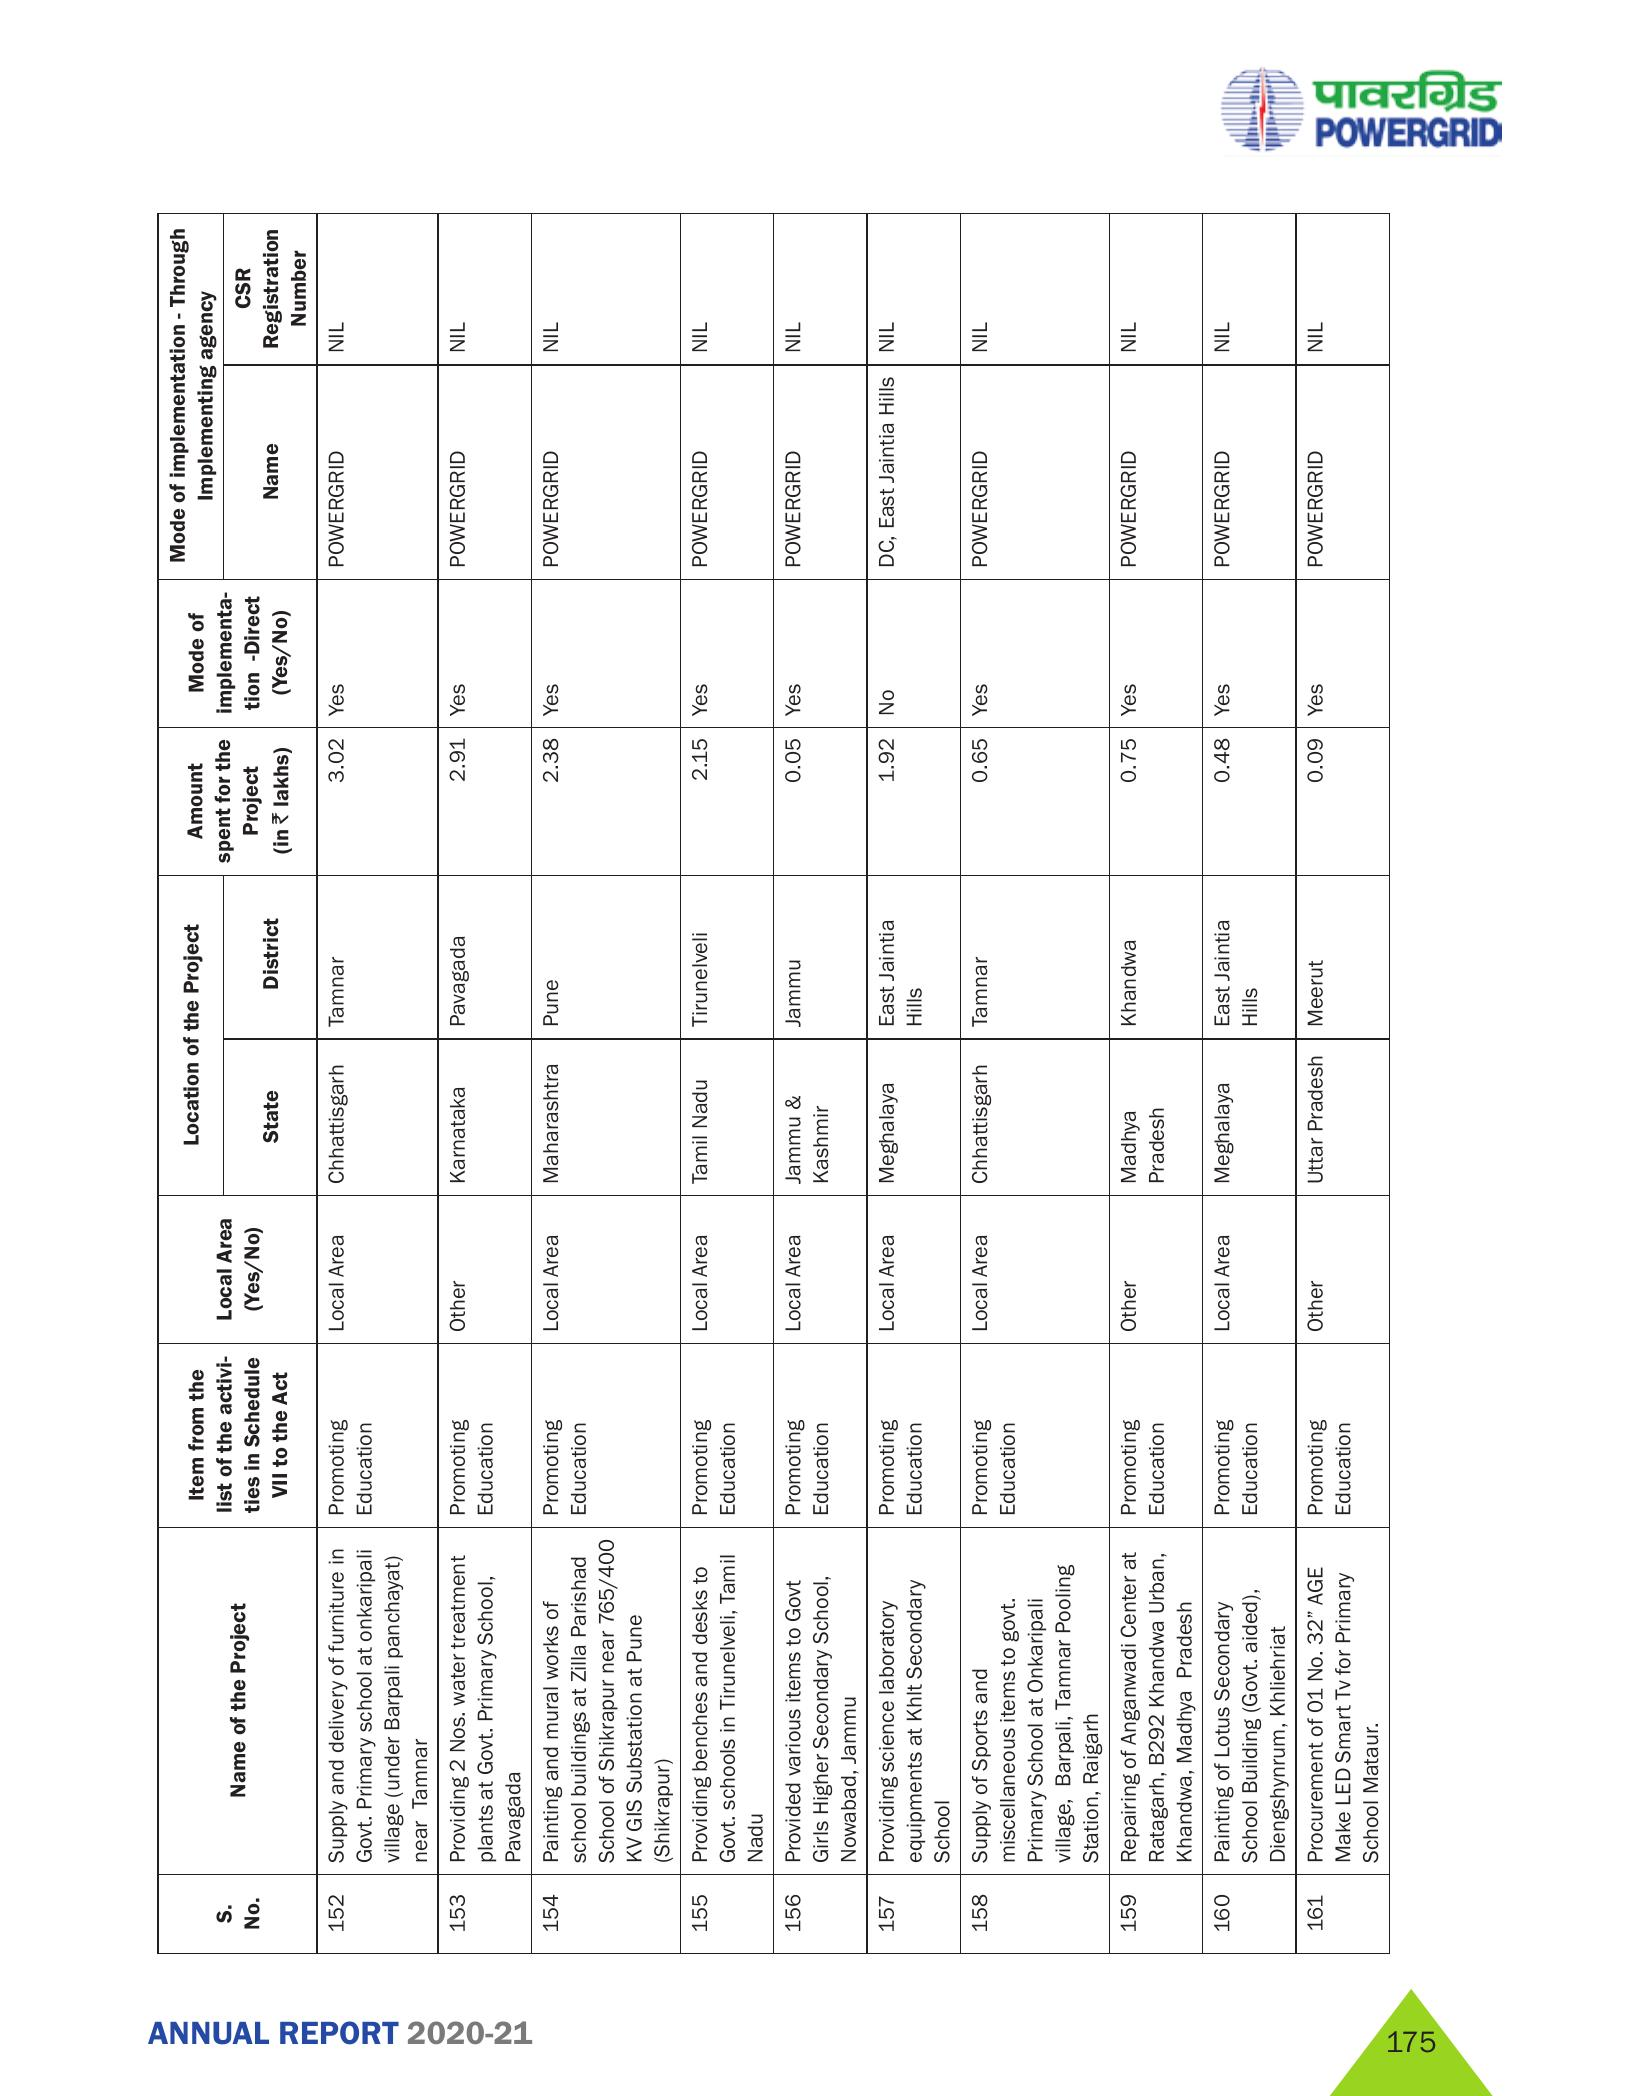Footer: (0, 1979, 1650, 2096)
Header: (0, 0, 1650, 180)
Table: (151, 204, 1446, 1965)
